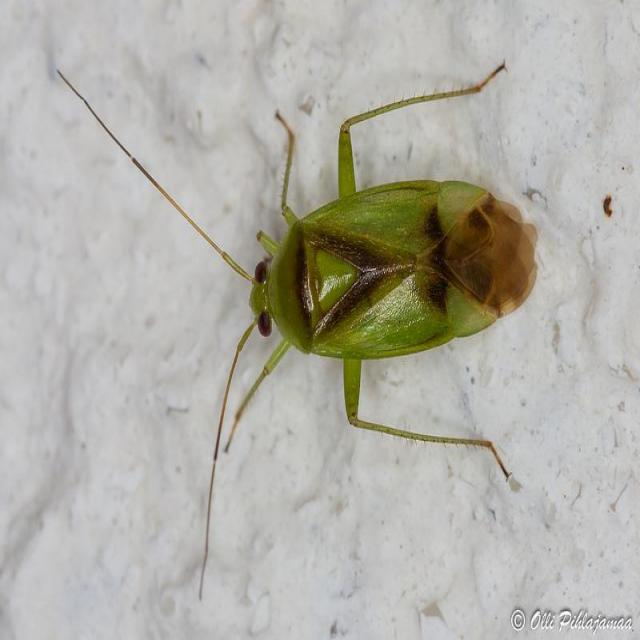Miridae-Adult-: (57, 48, 535, 503)
